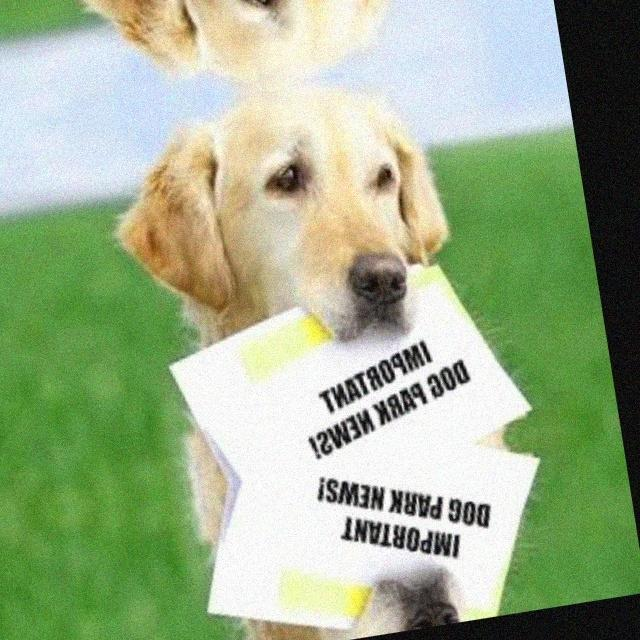dog: (88, 70, 521, 496), (145, 435, 548, 640), (59, 0, 459, 100)
